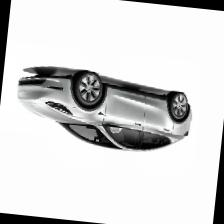EV: (13, 66, 200, 161)
